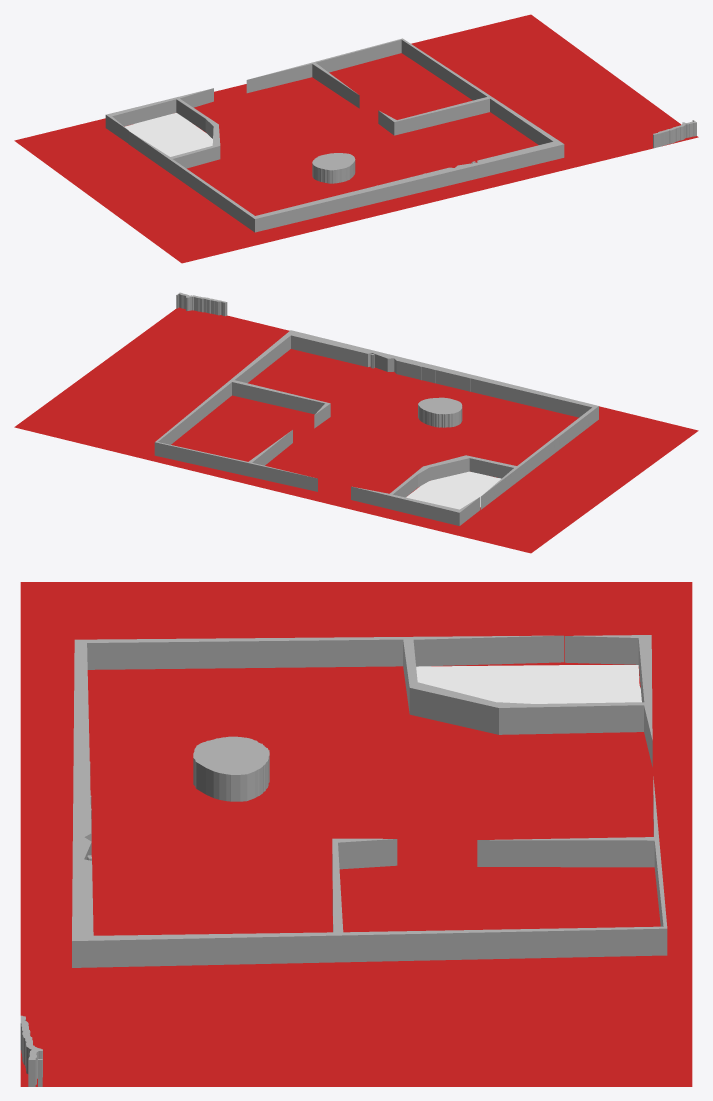
Rendered from example6.glb.
The picture shows the model from 3 angles, top to bottom: view 1: azimuth 30°, elevation 25°; view 2: azimuth 150°, elevation 25°; view 3: azimuth 270°, elevation 25°; orthographic projection. The views are drawn at different scales.
Parts seen in each view (by area): view 1: Floor, Box8Wall217, VertWalls17, Room0, Box8Wall216, Box8Wall228, Box8Wall223, Box8Wall224, Box8Wall220, Box8Wall210, Box8Wall229, Box8Wall221 (+3 smaller); view 2: Floor, VertWalls17, Box8Wall235, Box8Wall219, Room0, Box8Wall216, Box8Wall241, Box8Wall225, Box8Wall230, Box8Wall224, Box8Wall229, VertWalls15 (+3 smaller); view 3: Floor, Box8Wall218, VertWalls17, Box8Wall236, Room0, Box8Wall222, Box8Wall215, Box8Wall239, Box8Wall238, VertWalls15, Box8Wall209, Box8Wall226.
Part boxes in pixels (<box>): Floor: <box>14,14,698,263</box>; Box8Wall217: <box>255,144,564,232</box>; VertWalls17: <box>106,38,563,218</box>; Room0: <box>124,113,212,156</box>; Box8Wall216: <box>128,131,254,232</box>; Box8Wall228: <box>394,98,489,135</box>; Box8Wall223: <box>316,39,401,72</box>; Box8Wall224: <box>401,40,486,100</box>; Box8Wall220: <box>246,64,312,93</box>; Box8Wall210: <box>112,99,176,126</box>; Box8Wall229: <box>490,99,552,144</box>; Box8Wall221: <box>312,64,359,108</box>; Floor: <box>14,307,698,553</box>; VertWalls17: <box>155,330,598,512</box>; Box8Wall235: <box>396,361,591,417</box>; Box8Wall219: <box>154,442,317,491</box>; Room0: <box>406,471,501,509</box>; Box8Wall216: <box>481,406,598,509</box>; Box8Wall241: <box>351,486,459,525</box>; Box8Wall225: <box>232,382,324,414</box>; Box8Wall230: <box>291,335,367,367</box>; Box8Wall224: <box>158,382,231,444</box>; Box8Wall229: <box>235,335,290,383</box>; VertWalls15: <box>418,397,461,414</box>; Floor: <box>20,582,692,1086</box>; Box8Wall218: <box>72,928,667,967</box>; VertWalls17: <box>72,635,667,940</box>; Box8Wall236: <box>87,639,402,669</box>; Room0: <box>416,665,641,703</box>; Box8Wall222: <box>477,840,654,867</box>; Box8Wall215: <box>413,635,563,666</box>; Box8Wall239: <box>499,705,643,734</box>; Box8Wall238: <box>409,688,498,734</box>; VertWalls15: <box>193,736,269,774</box>; Box8Wall209: <box>564,636,638,664</box>; Box8Wall226: <box>338,839,397,869</box>.
Bounding box in the file's own units: 40.31 × 1 × 22.67.
